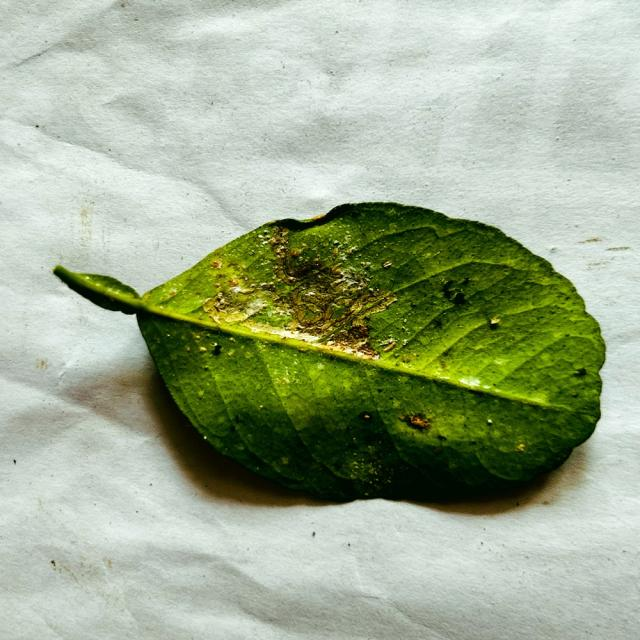Bacterial_Blight: (310, 285, 393, 342), (272, 230, 327, 285), (202, 288, 265, 329), (287, 281, 339, 329), (287, 294, 343, 338), (328, 272, 367, 299), (345, 292, 381, 319), (338, 324, 372, 350), (202, 296, 228, 323), (223, 261, 247, 279), (297, 306, 321, 322), (223, 309, 248, 324), (259, 281, 279, 295), (331, 265, 343, 275), (287, 275, 297, 284)
Lemon: (54, 202, 606, 509)
